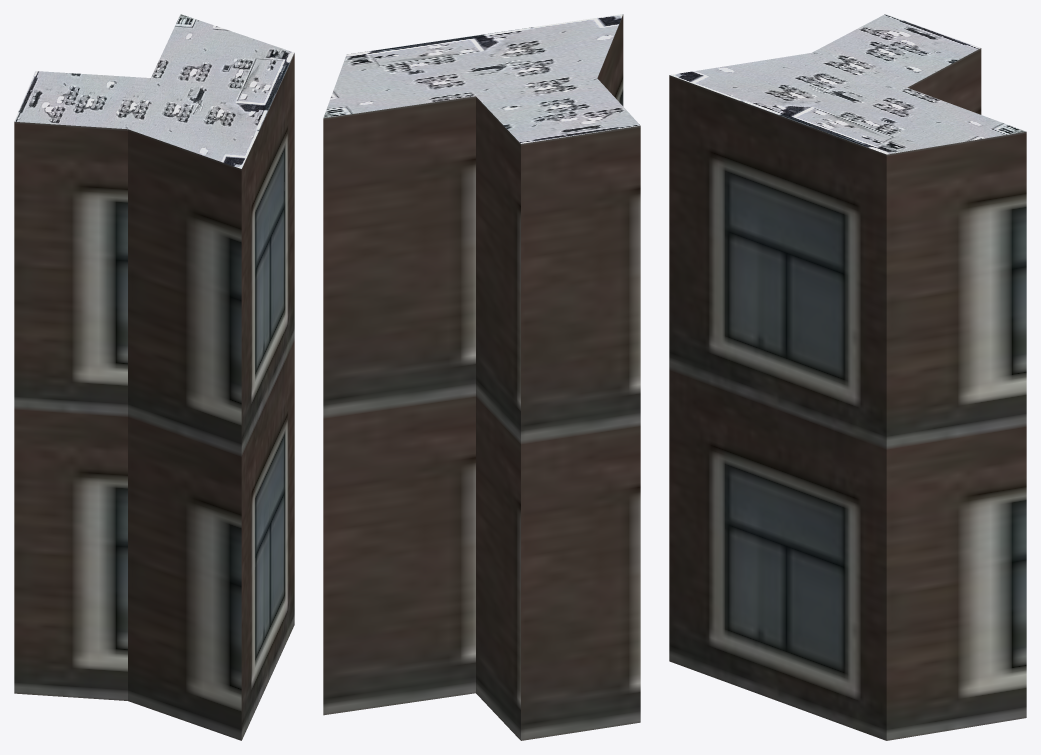
The model's file is ResTex__941.fbx.
3 renders of one model, left to right at view 1: azimuth 30°, elevation 25°; view 2: azimuth 150°, elevation 25°; view 3: azimuth 270°, elevation 25°, orthographic. The views are drawn at different scales.
Parts seen in each view (by area): view 1: CityEngineMaterial_16_m, CityEngineMaterial_15_m; view 2: CityEngineMaterial_16_m, CityEngineMaterial_15_m; view 3: CityEngineMaterial_16_m, CityEngineMaterial_15_m.
Part boxes in pixels (<box>): CityEngineMaterial_16_m: <box>14,53,294,740</box>; CityEngineMaterial_15_m: <box>14,14,294,168</box>; CityEngineMaterial_16_m: <box>323,14,640,740</box>; CityEngineMaterial_15_m: <box>323,14,640,143</box>; CityEngineMaterial_16_m: <box>669,48,1026,740</box>; CityEngineMaterial_15_m: <box>670,14,1025,154</box>.
Bounding box in the file's own units: 3.09 × 6 × 3.31.
Materials: 2 (2 with a texture image).
